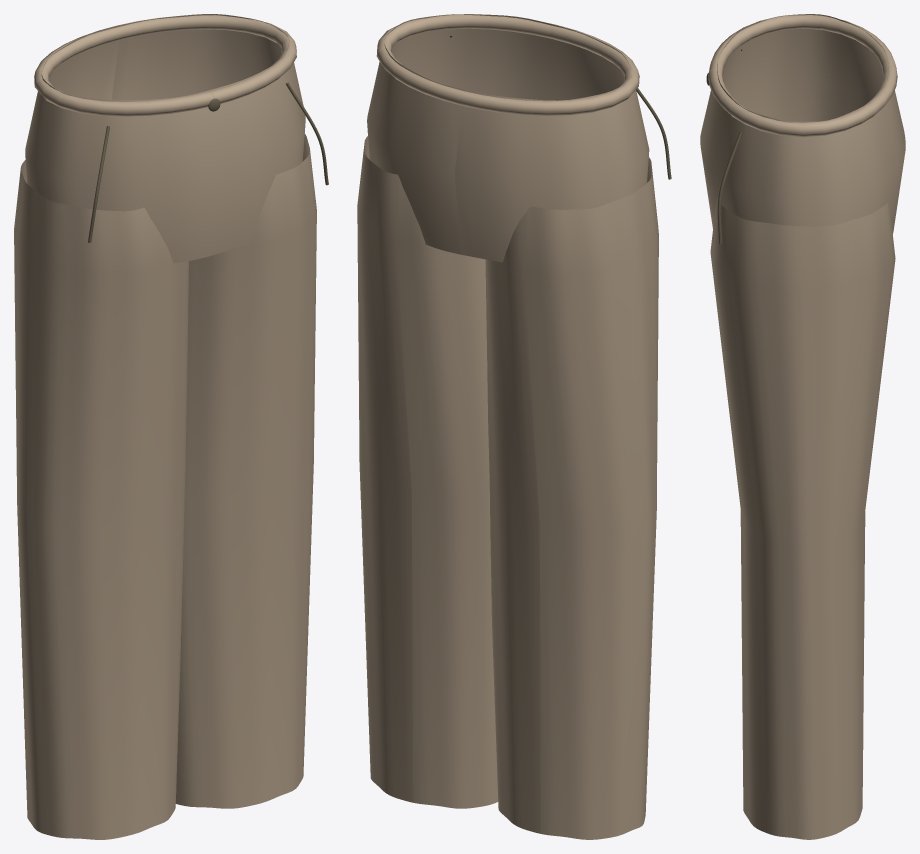
File: pantalon-dune-homme.glb
3 views of the same model, side by side, from view 1: azimuth 30°, elevation 25°; view 2: azimuth 150°, elevation 25°; view 3: azimuth 270°, elevation 25° (orthographic). The views are drawn at different scales.
Visible parts, largest first — view 1: edit-13; view 2: edit-13; view 3: edit-13.
Part boxes in pixels (x1=…): edit-13: x1=14, y1=14, x2=328, y2=839; edit-13: x1=357, y1=14, x2=671, y2=839; edit-13: x1=700, y1=14, x2=905, y2=839.
Size of the model in its own units: 0.3836 by 0.9517 by 0.2493.
